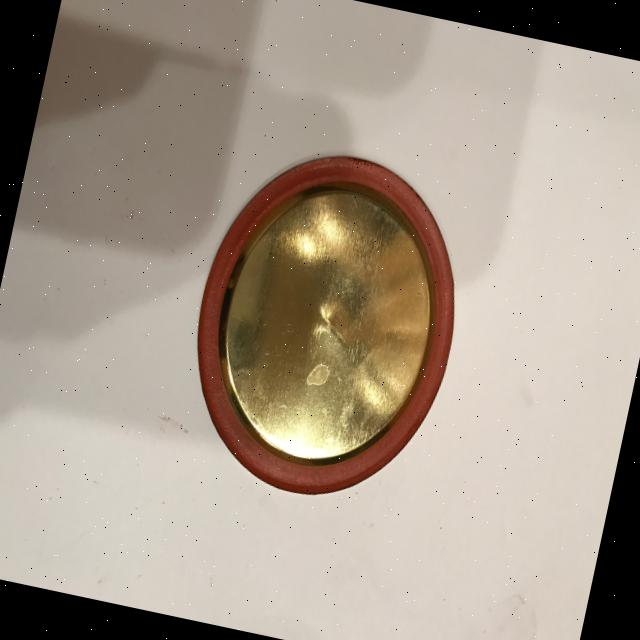metal: (165, 131, 486, 518)
